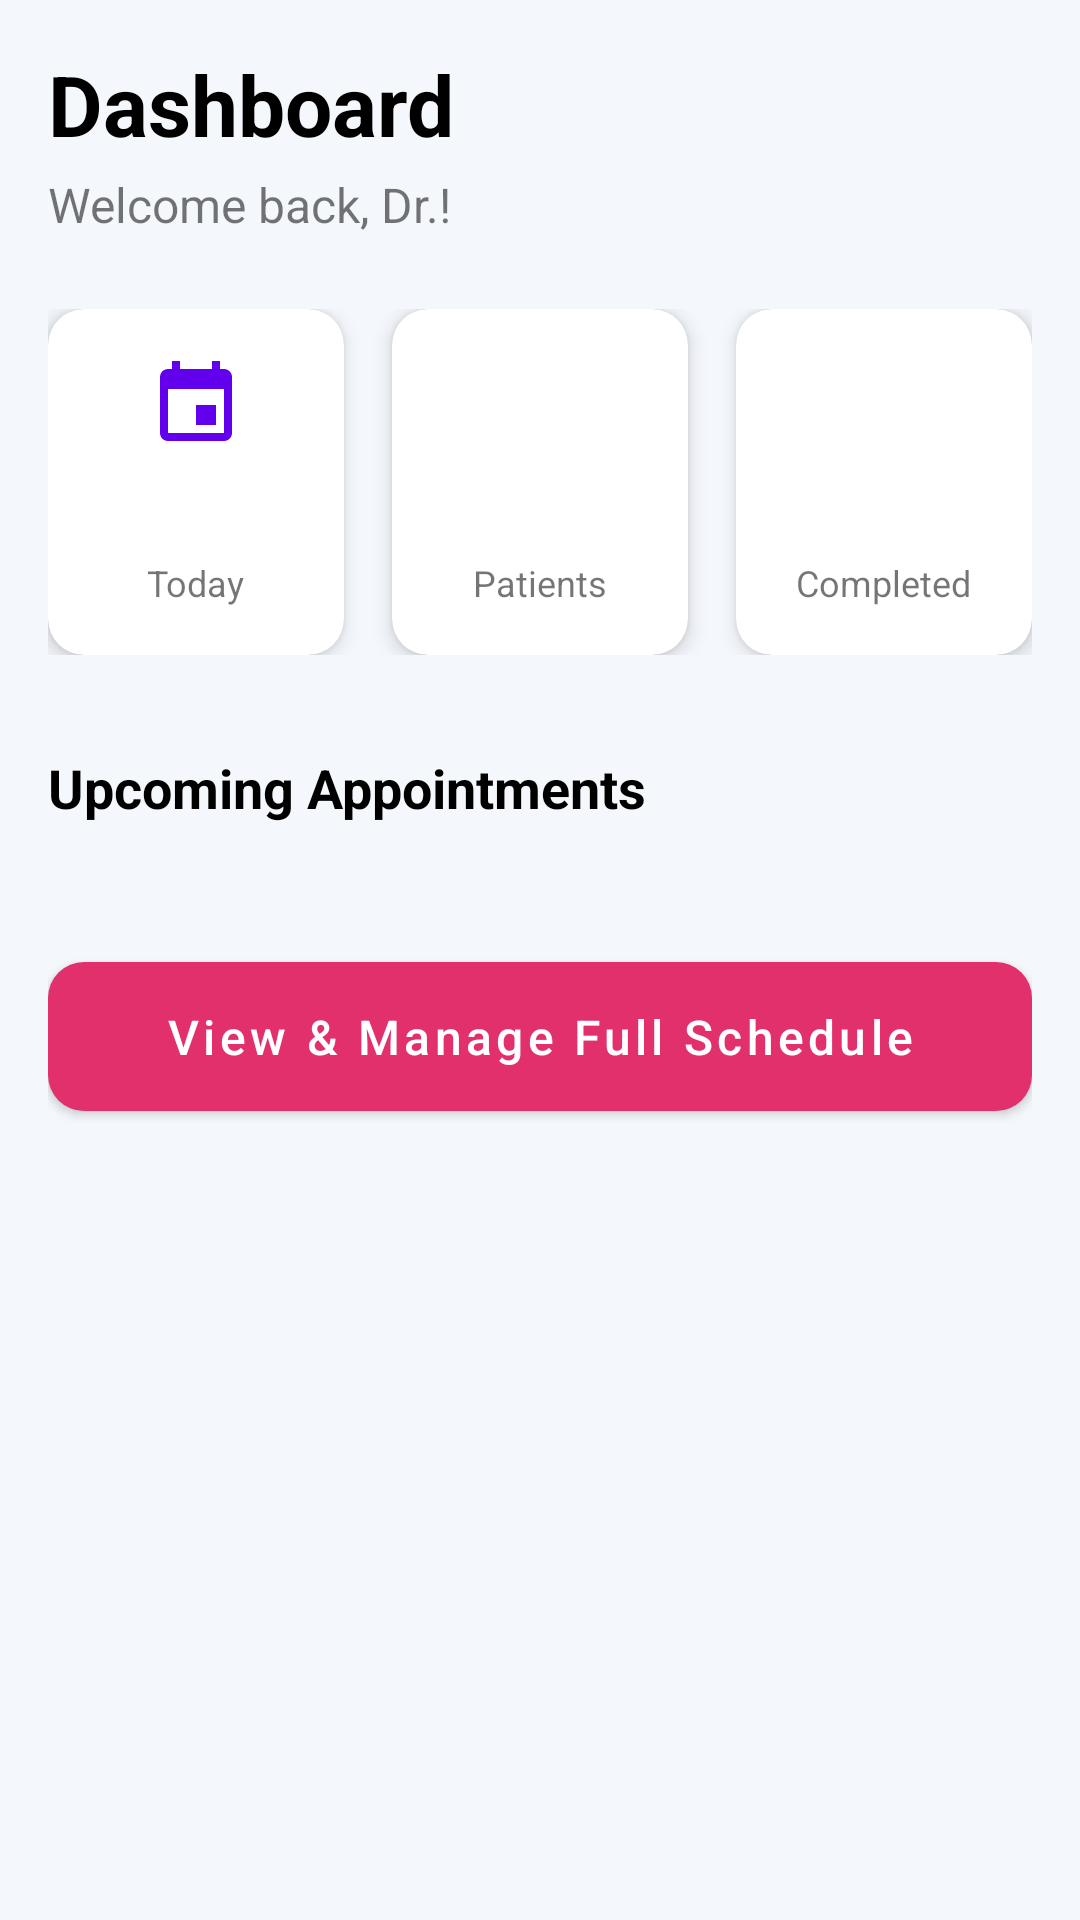

Icons on this 1080x1920 Android screen, each with its box as Rect(x1, y1, x2, y2):
calendar: Rect(160, 361, 232, 441)
